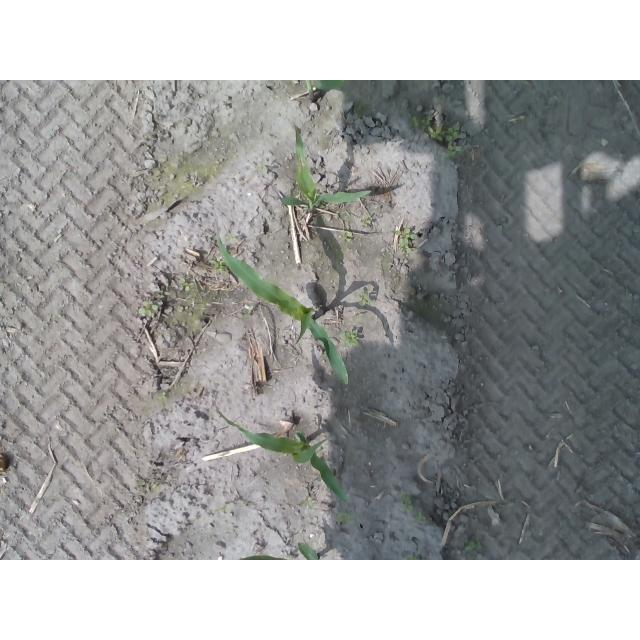Maize: (214, 237, 350, 388), (210, 398, 350, 503), (276, 124, 372, 213), (237, 541, 322, 560), (304, 81, 345, 104)
Weeds: (393, 226, 417, 255), (426, 125, 458, 143), (138, 299, 158, 317), (411, 115, 433, 130), (447, 142, 466, 159), (341, 330, 360, 347), (335, 511, 353, 526), (401, 493, 414, 512), (465, 540, 484, 553), (181, 277, 192, 293), (359, 291, 369, 306), (340, 230, 352, 242), (361, 216, 372, 228), (215, 261, 225, 271), (157, 392, 167, 401), (416, 512, 424, 520)
